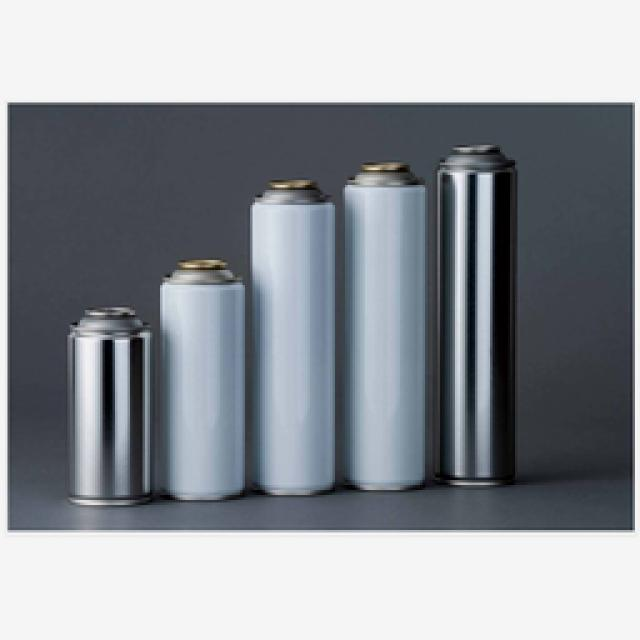B3: (433, 148, 517, 484), (250, 182, 336, 494), (160, 263, 246, 499), (68, 308, 155, 504)
